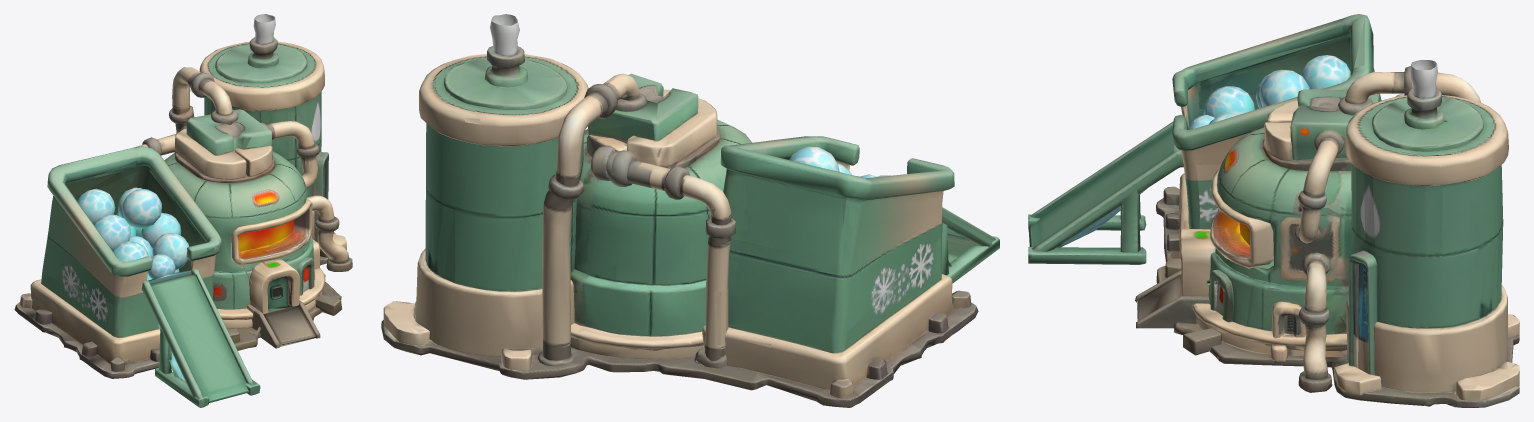
File: plavilnya.fbx
The picture shows the model from 3 angles, left to right: view 1: azimuth 30°, elevation 25°; view 2: azimuth 150°, elevation 25°; view 3: azimuth 270°, elevation 25°; orthographic projection. The views are drawn at different scales.
Parts seen in each view (by area): view 1: Mesh_0; view 2: Mesh_0; view 3: Mesh_0.
Boxes of the visible parts, x1,y1,x2,y2 form: Mesh_0: [14, 14, 352, 407]; Mesh_0: [381, 14, 999, 407]; Mesh_0: [1028, 14, 1519, 407].
Bounding box in the file's own units: 100 × 67.58 × 100.
Materials: 1 (1 with a texture image).
